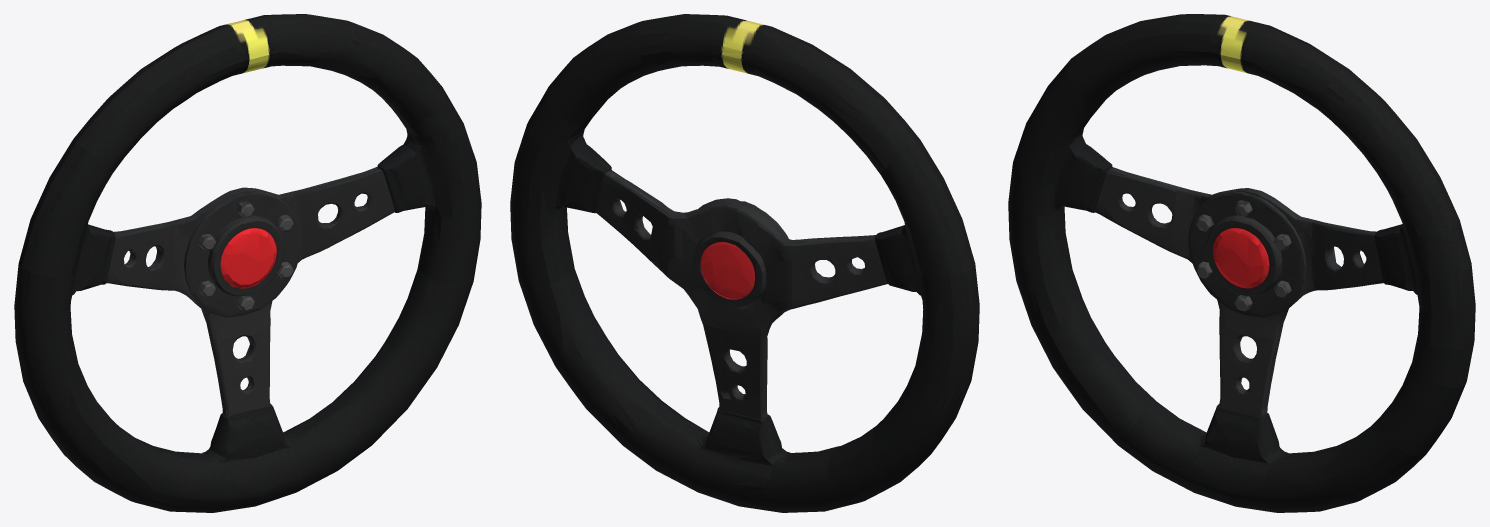
Rendered from steering_wheel.glb.
The picture shows the model from 3 angles, left to right: view 1: azimuth 30°, elevation 25°; view 2: azimuth 150°, elevation 25°; view 3: azimuth 330°, elevation 25°; orthographic projection.
Bounding box in the file's own units: 1.9 × 1.9 × 0.2315.
Materials: 1 (1 with a texture image).
